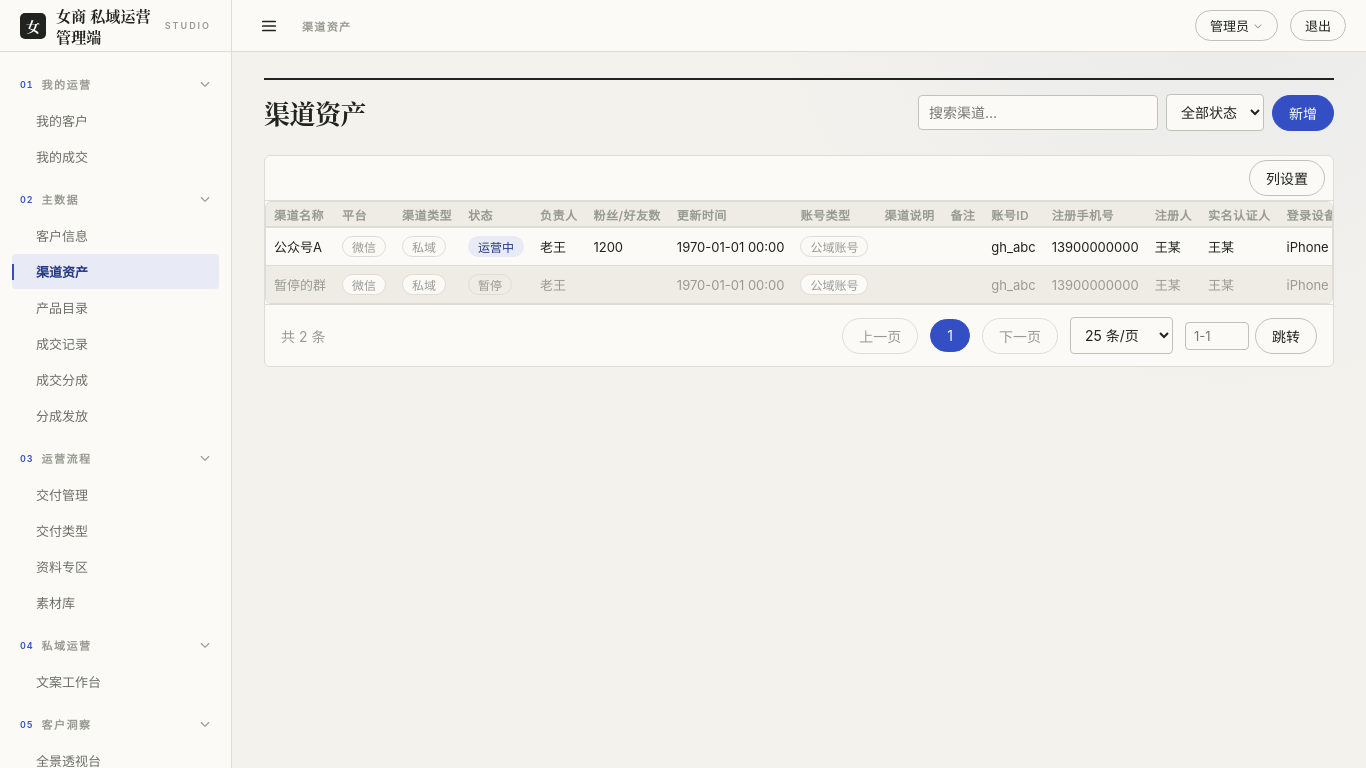
Scenario: 渠道资产页 › 粉丝数非法输入：toast 报错、不发 PATCH 且不清空（M6）
Expected: the text "公众号A" is shown, [266,228,334,266]
Double-click the cell "1200": (627, 246) [585,228,669,266]
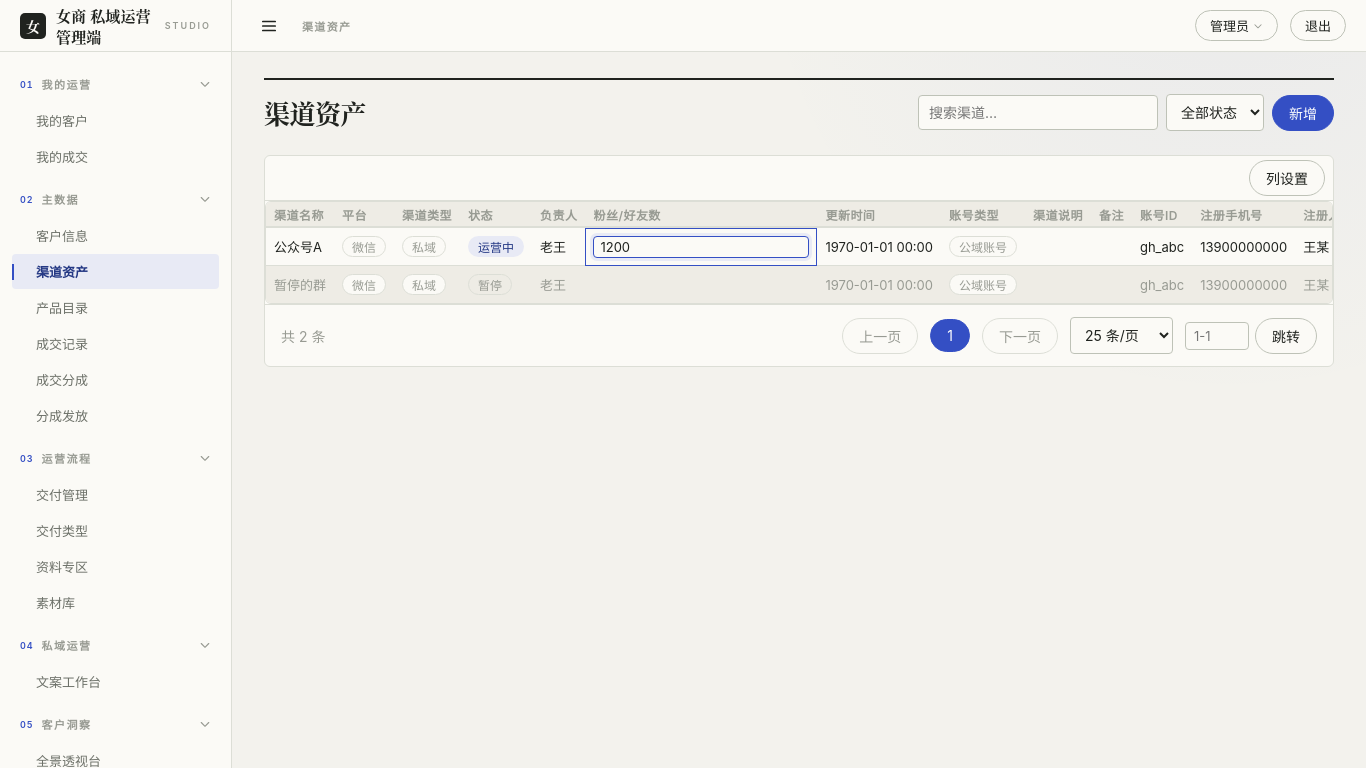
Result: the field named "粉丝/好友数" holds "1200"
Replace the text in the field named "粉丝/好友数" with "12a": (701, 246) [593,236,809,258]
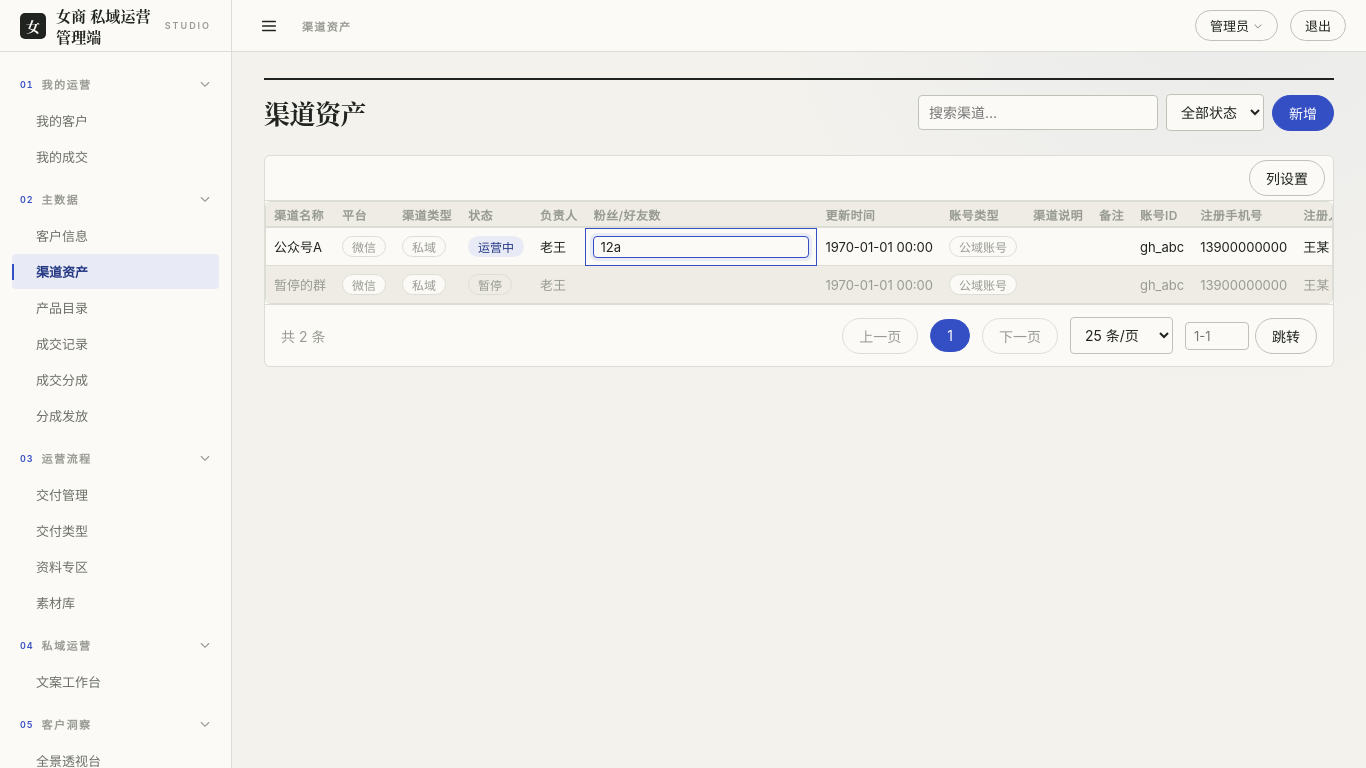
Press Tab in the field named "粉丝/好友数", box [593,236,809,258]
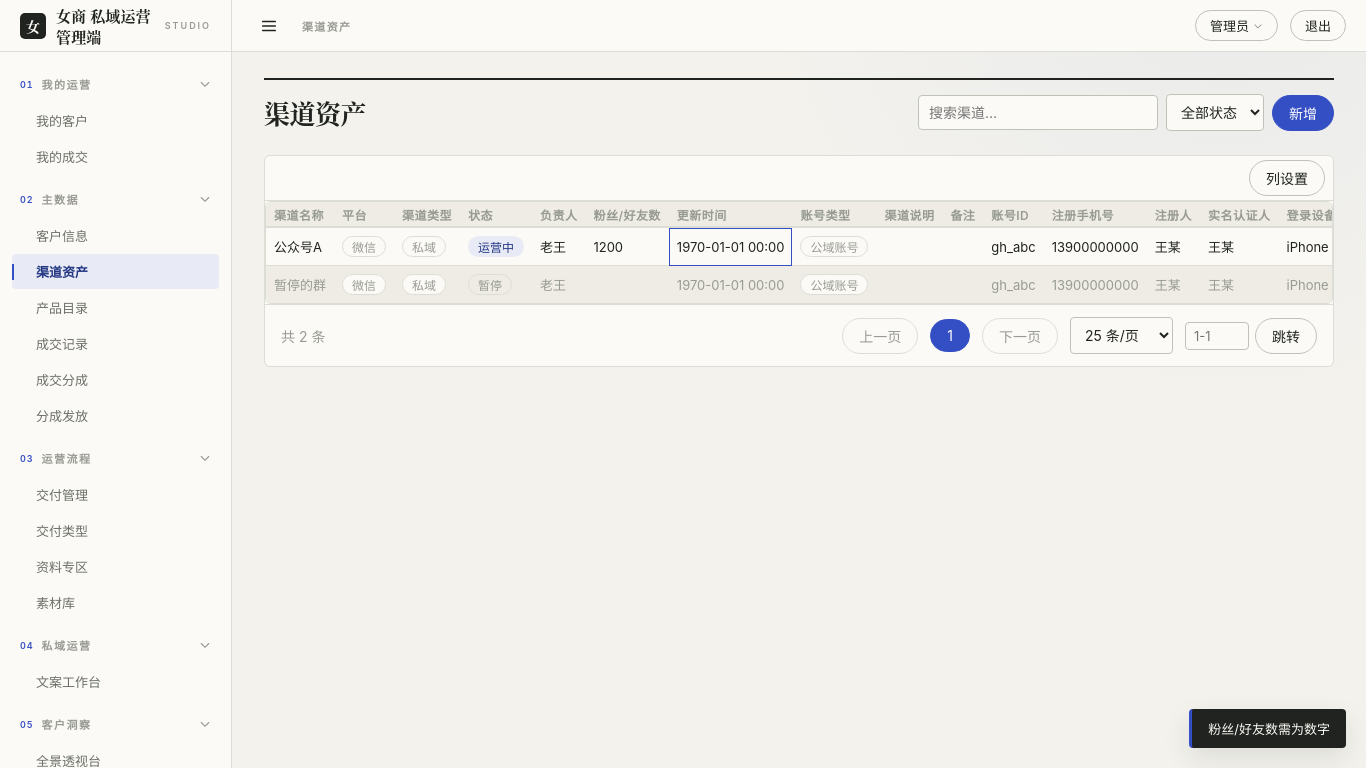
Result: the text "粉丝/好友数需为数字" is shown at [1189,709,1346,748]
